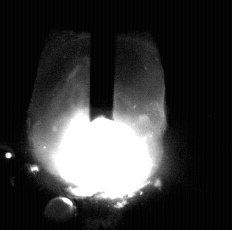arame: (91, 0, 115, 121)
poca: (27, 0, 165, 230)
